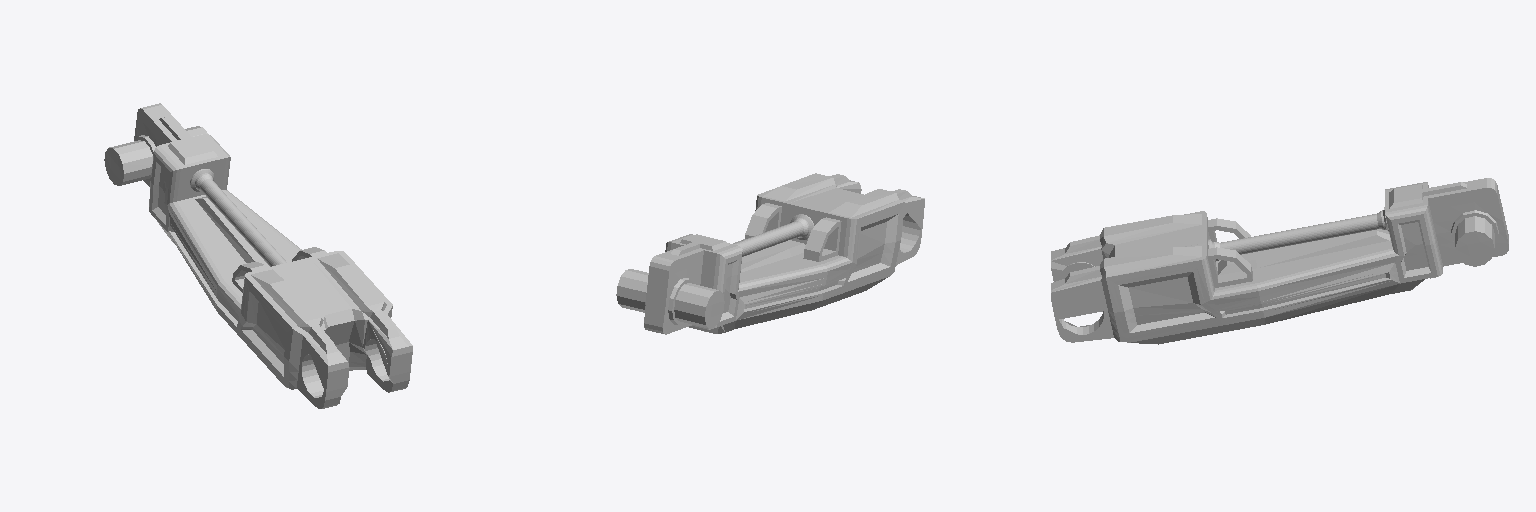
The model's file is leg_l_02.obj.
The picture shows the model from 3 angles: view 1: azimuth 30°, elevation 25°; view 2: azimuth 150°, elevation 25°; view 3: azimuth 270°, elevation 25°; orthographic projection.
Visible parts, largest first — view 1: leg_l_02_Cylinder.004; view 2: leg_l_02_Cylinder.004; view 3: leg_l_02_Cylinder.004.
Boxes of the visible parts, <box> form: leg_l_02_Cylinder.004: <box>104,103,412,408</box>; leg_l_02_Cylinder.004: <box>616,173,924,334</box>; leg_l_02_Cylinder.004: <box>1051,178,1508,344</box>.
Size of the model in its own units: 0.2361 by 0.3308 by 0.9385.